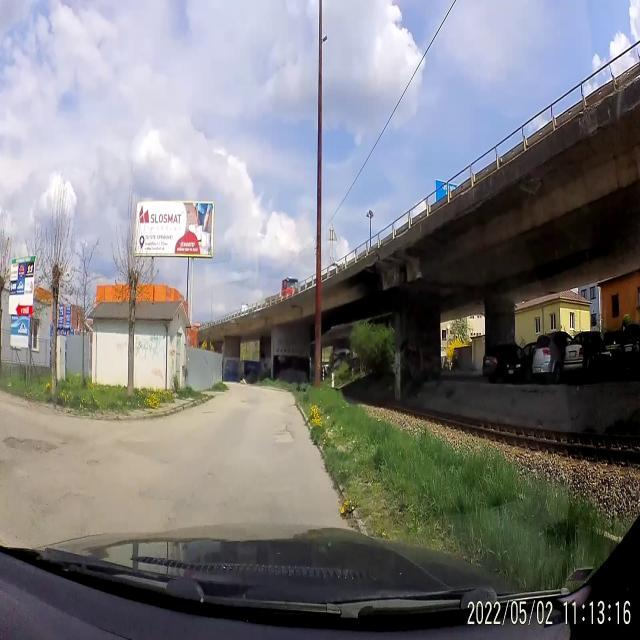Pothole: (0, 426, 66, 462), (78, 448, 104, 482), (270, 414, 294, 446), (232, 390, 255, 412), (199, 402, 219, 418)
